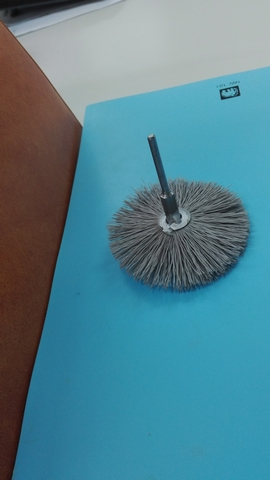TOOL: (67, 132, 263, 308), (99, 141, 237, 293)
